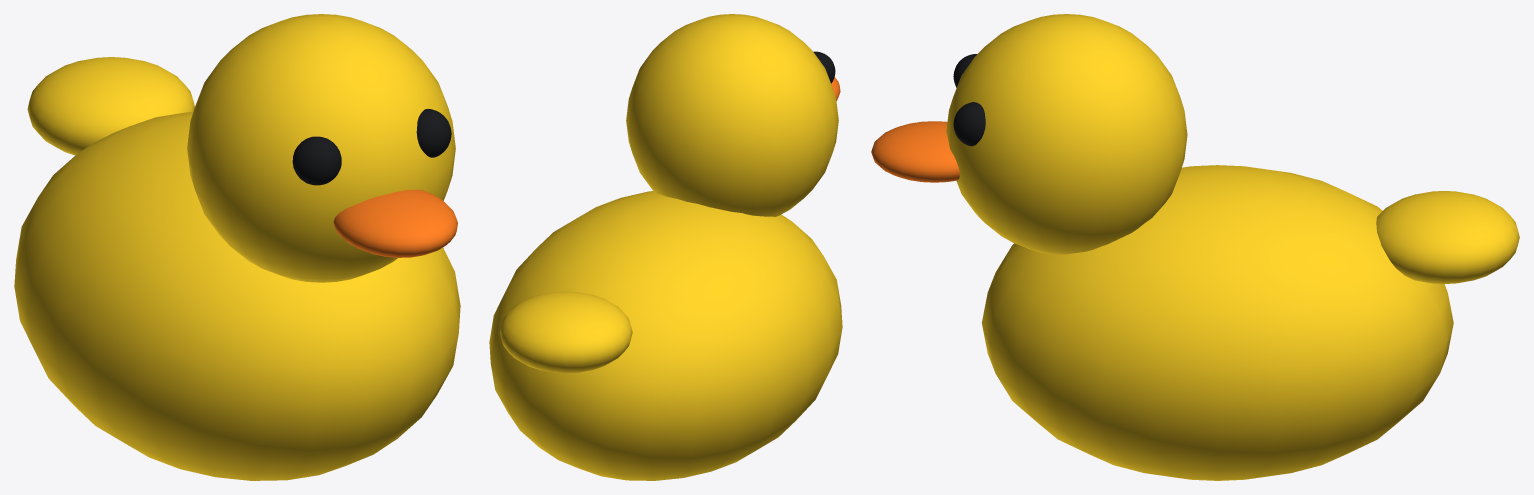
The model's file is duck.glb.
The picture shows the model from 3 angles, left to right: view 1: azimuth 30°, elevation 25°; view 2: azimuth 150°, elevation 25°; view 3: azimuth 270°, elevation 25°; orthographic projection. The views are drawn at different scales.
Visible parts, largest first — view 1: duck; view 2: duck; view 3: duck.
Part boxes in pixels (x1,y1,x2,y2): duck: [14, 14, 460, 480]; duck: [489, 14, 842, 480]; duck: [871, 14, 1519, 480].
Size of the model in its own units: 0.1 by 0.127 by 0.1718.
